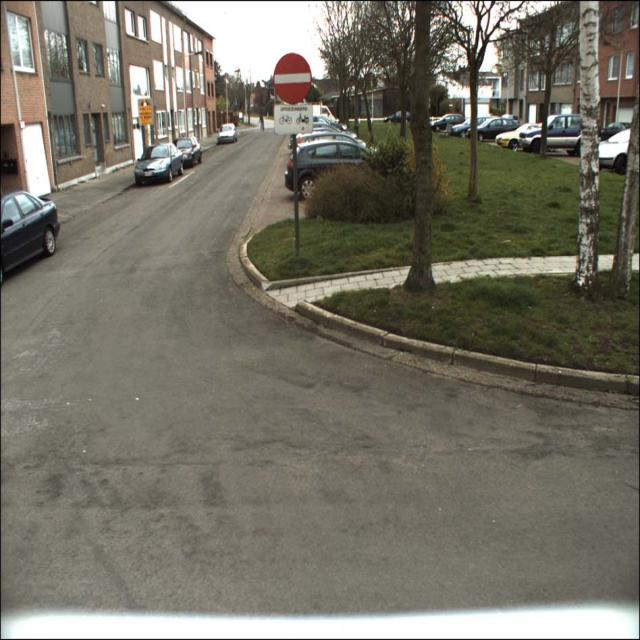girisyok: (272, 51, 314, 106)
